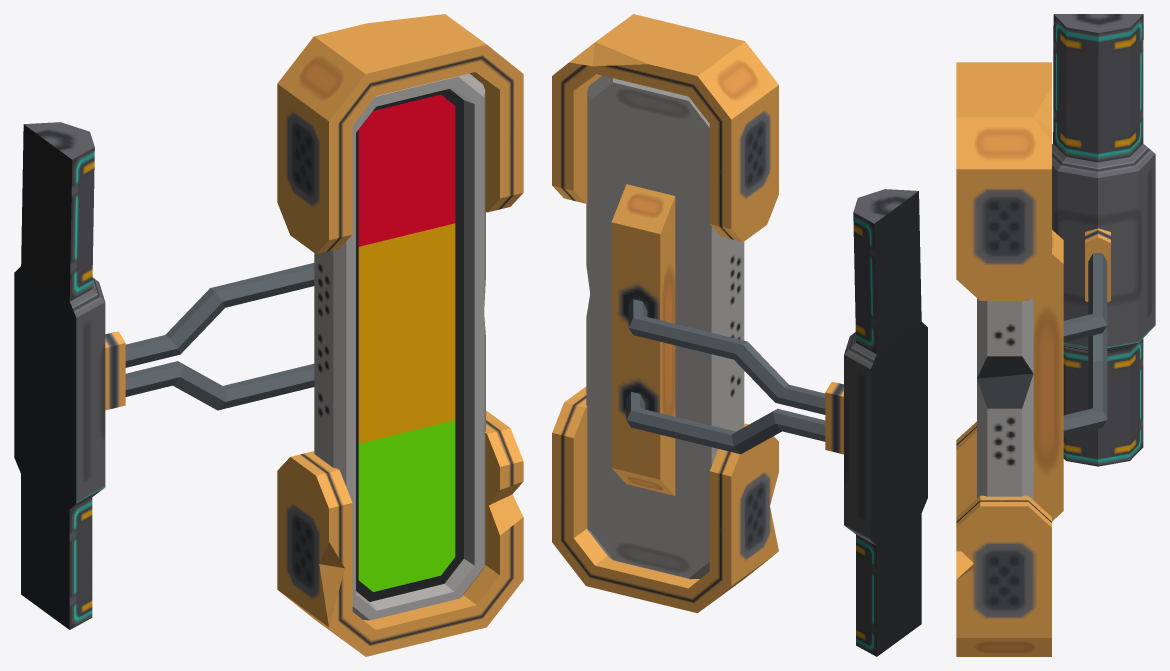
The model's file is SM_Prop_Traffic_Lights_01.fbx.
3 views of the same model, side by side, from view 1: azimuth 30°, elevation 25°; view 2: azimuth 150°, elevation 25°; view 3: azimuth 270°, elevation 25° (orthographic). The views are drawn at different scales.
Visible parts, largest first — view 1: SM_Prop_Traffic_Lights_01; view 2: SM_Prop_Traffic_Lights_01; view 3: SM_Prop_Traffic_Lights_01.
Boxes of the visible parts, left/top/right/bottom form: SM_Prop_Traffic_Lights_01: left=14, top=14, right=523, bottom=656; SM_Prop_Traffic_Lights_01: left=552, top=14, right=927, bottom=656; SM_Prop_Traffic_Lights_01: left=956, top=14, right=1155, bottom=656.
Bounding box in the file's own units: 97.73 × 136 × 45.34.
